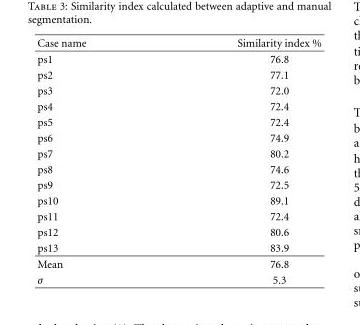table: (36, 36, 320, 285)
table column: (161, 36, 320, 285), (36, 36, 161, 285)
table column header: (36, 36, 320, 50)
table row: (36, 50, 320, 66), (36, 66, 320, 82), (36, 82, 320, 98), (36, 113, 320, 129), (36, 129, 320, 145), (36, 145, 320, 161), (36, 176, 320, 192), (36, 192, 320, 208), (36, 223, 320, 239), (36, 239, 320, 255), (36, 255, 320, 271), (36, 98, 320, 113), (36, 161, 320, 176), (36, 208, 320, 223), (36, 36, 320, 50), (36, 271, 320, 285)
